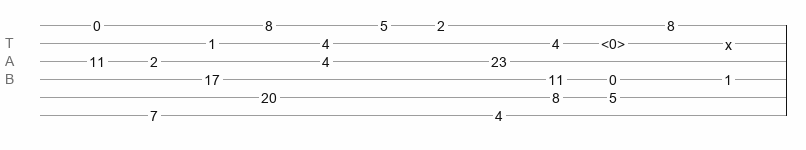0: (93, 18, 101, 28), (609, 72, 617, 82)
1: (208, 36, 216, 46), (724, 72, 732, 82)
11: (89, 54, 105, 64), (548, 72, 564, 82)
17: (204, 72, 220, 82)
2: (150, 54, 158, 64), (437, 18, 445, 28)
20: (261, 90, 277, 100)
23: (491, 54, 507, 64)
4: (322, 36, 330, 46), (322, 54, 330, 64), (495, 108, 503, 118), (552, 36, 560, 46)
5: (380, 18, 388, 28), (609, 90, 617, 100)
7: (150, 108, 158, 118)
8: (265, 18, 273, 28), (552, 90, 560, 100), (667, 18, 675, 28)
harmonic: (601, 36, 625, 46)
x: (725, 37, 732, 45)
